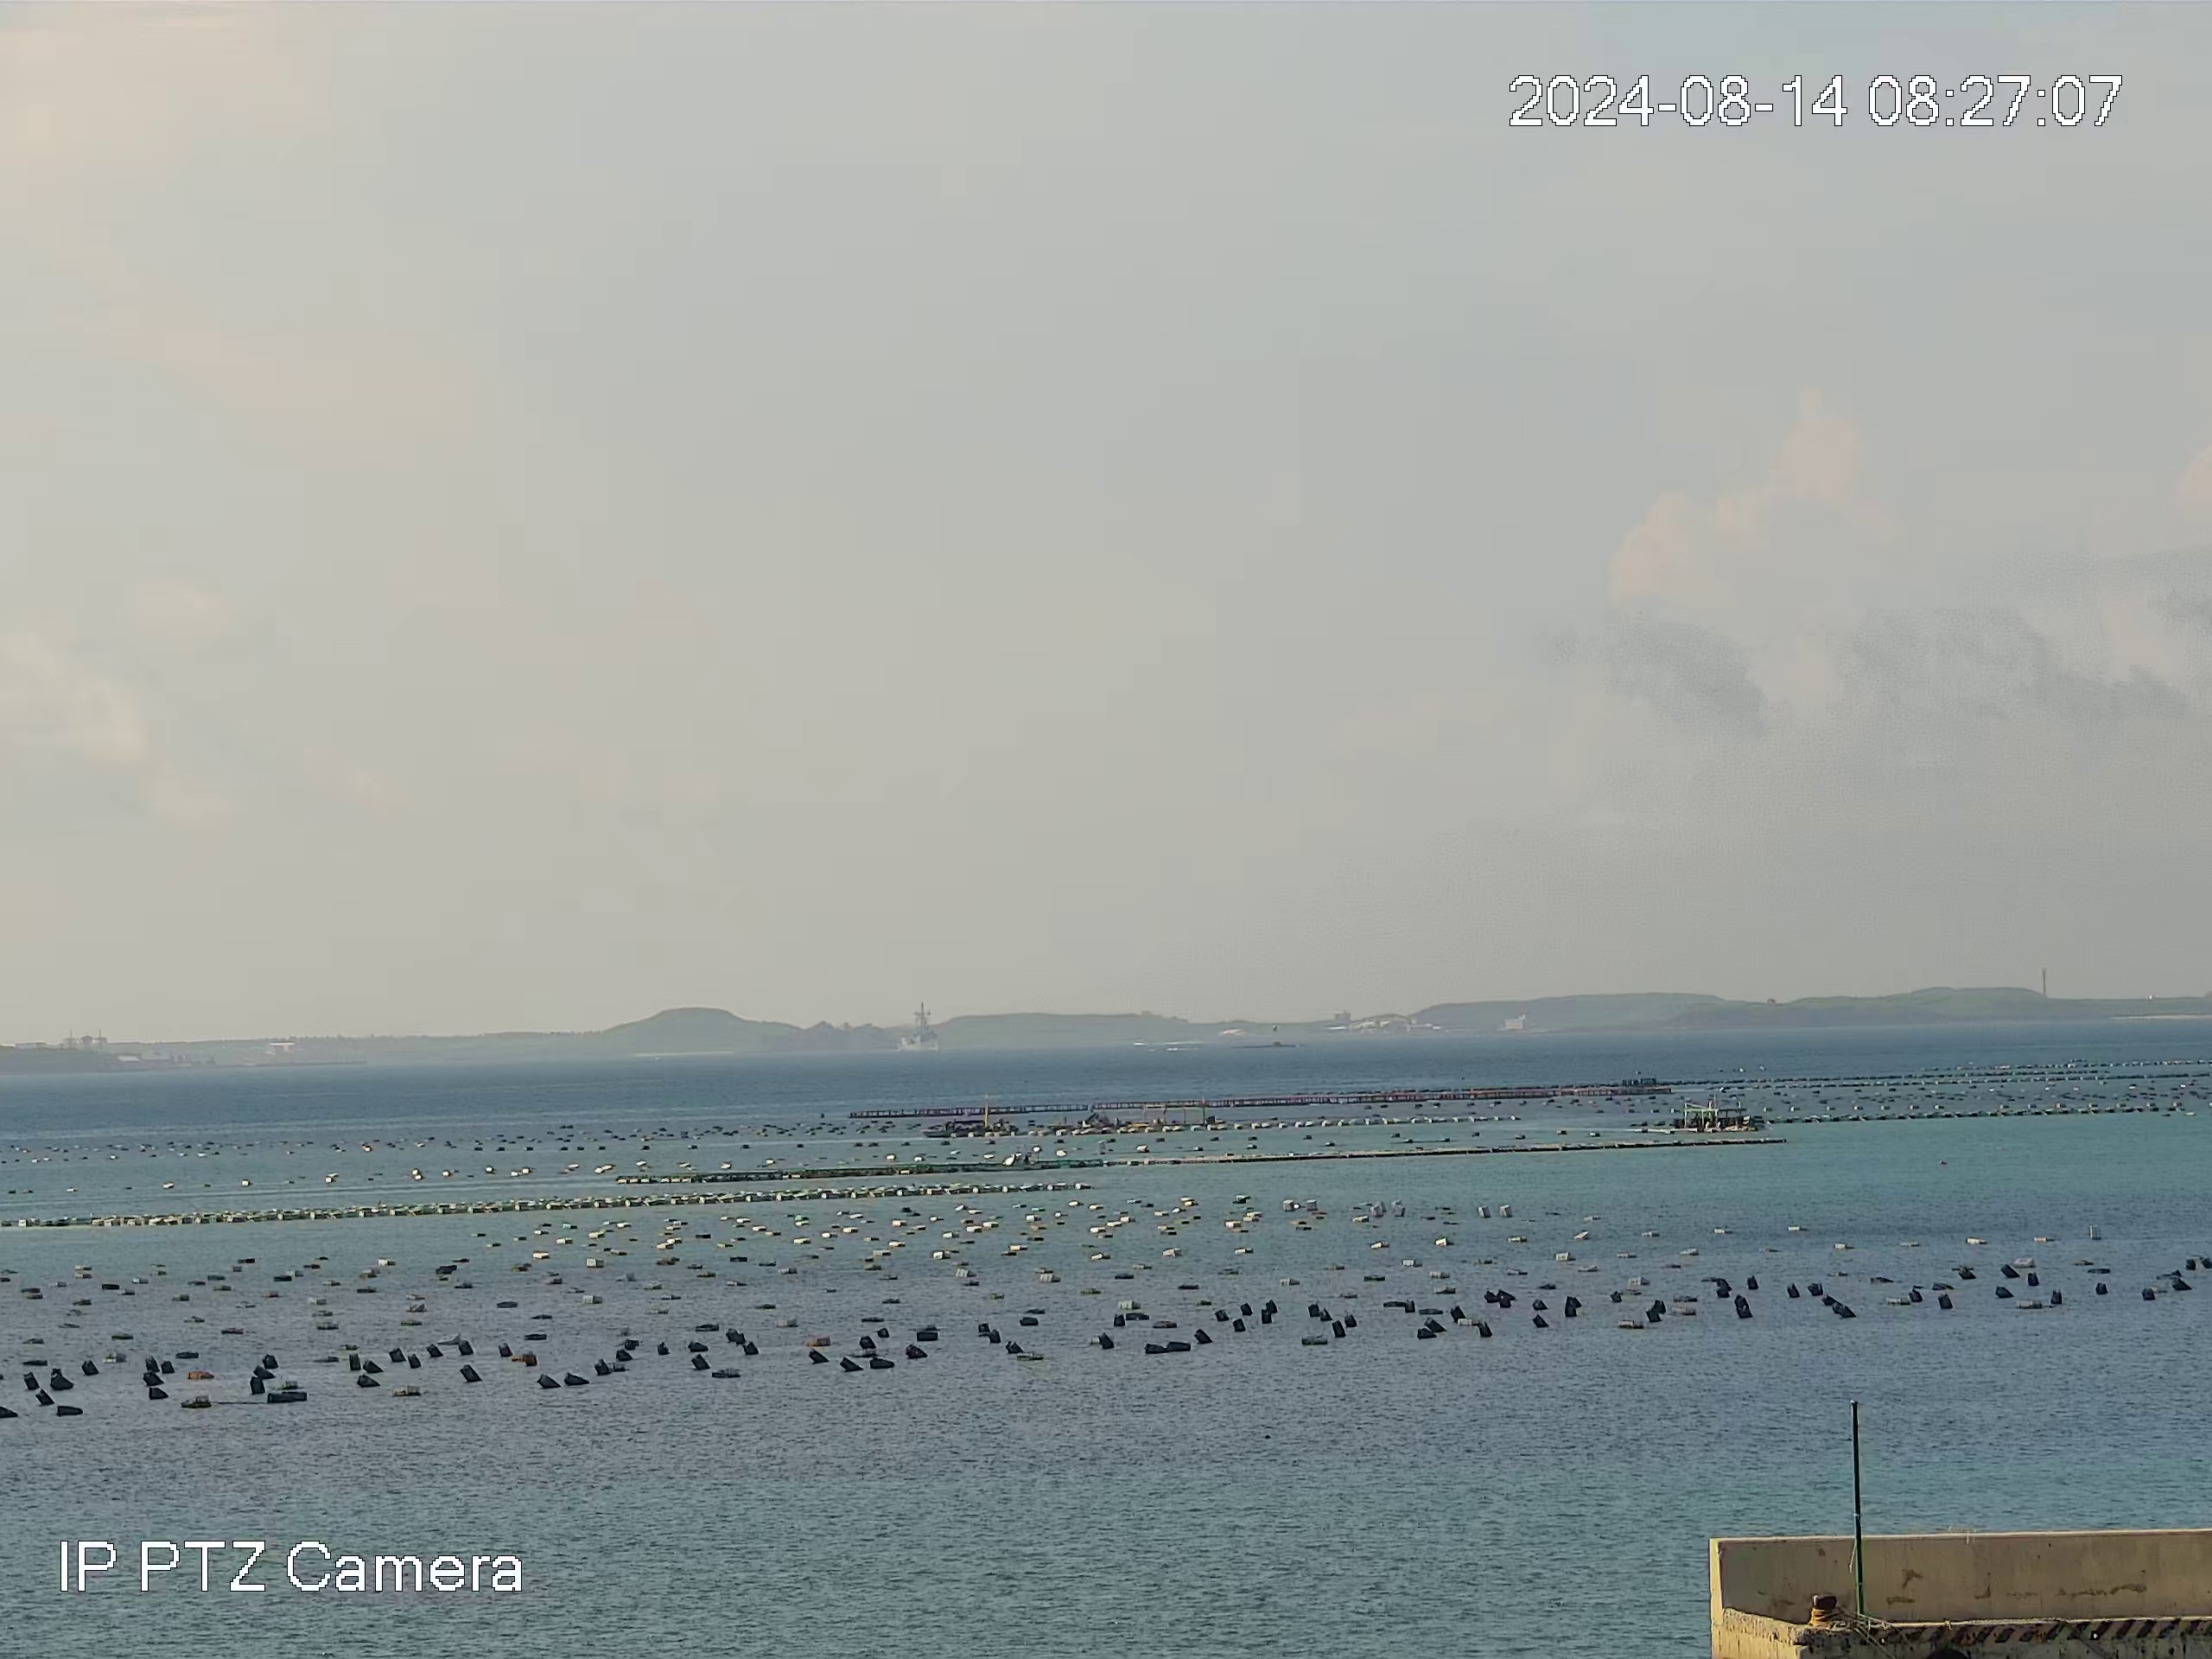boat: (1679, 1098, 1761, 1133), (923, 1115, 989, 1140)
